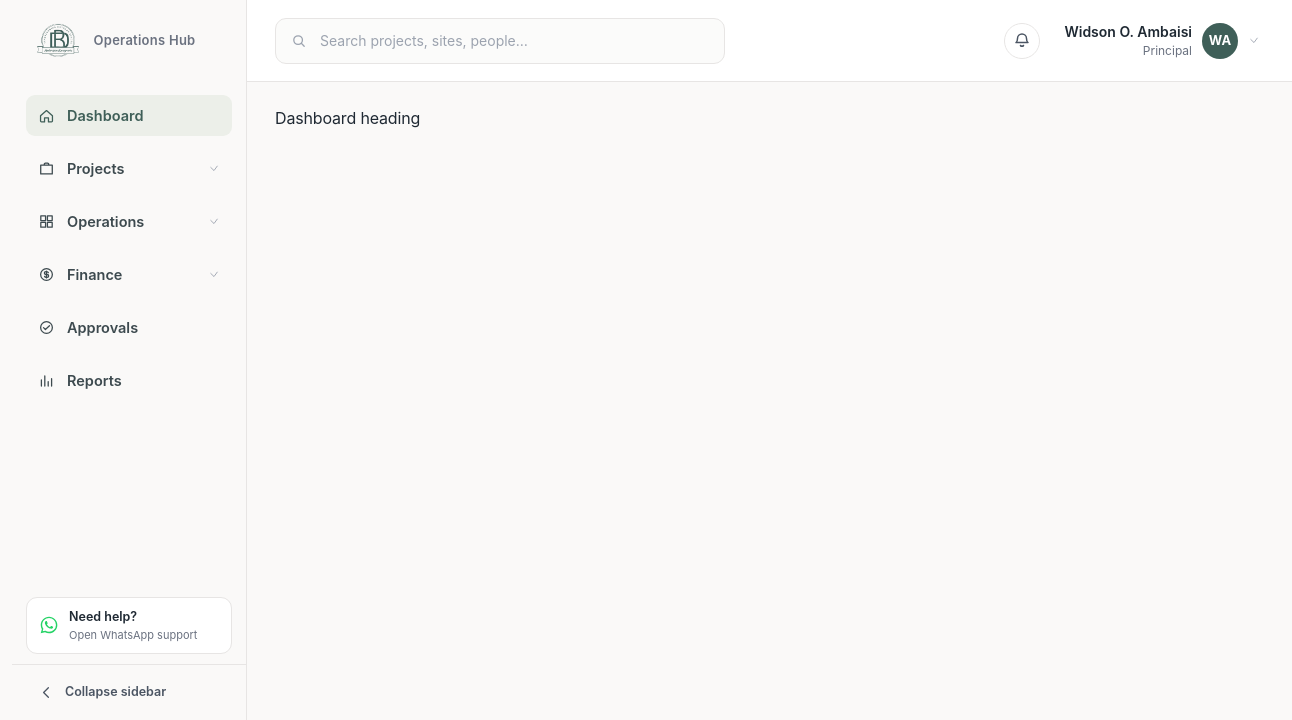
Test: Operating-model preserved shell › keeps sign-out reachable from the profile menu
The width and height of the screenshot is (1292, 720).
What coordinates should you click on to do the following:
click the button "Widson O. Ambaisi Principal WA"
I would click on:
 (1162, 40)
Its box is x1=1060 y1=18 x2=1264 y2=62.
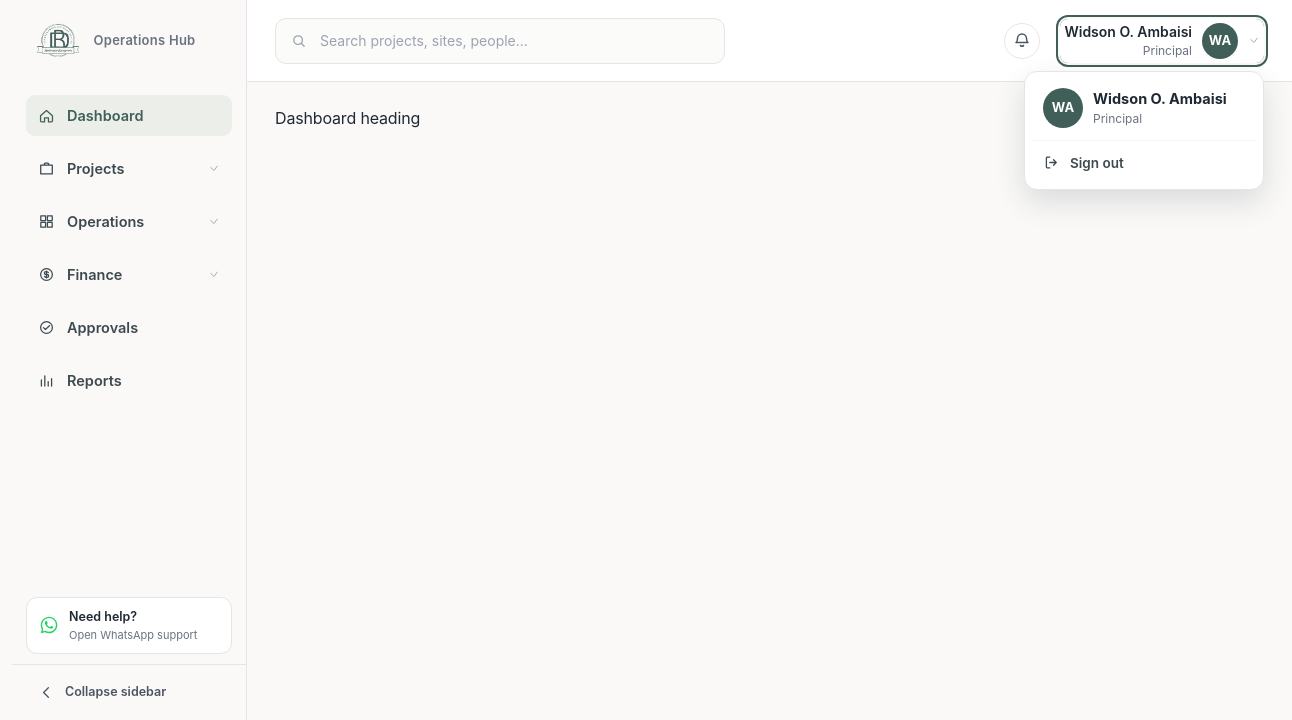
Expected: the menu item "Sign out" is shown, x1=1031 y1=142 x2=1257 y2=183
